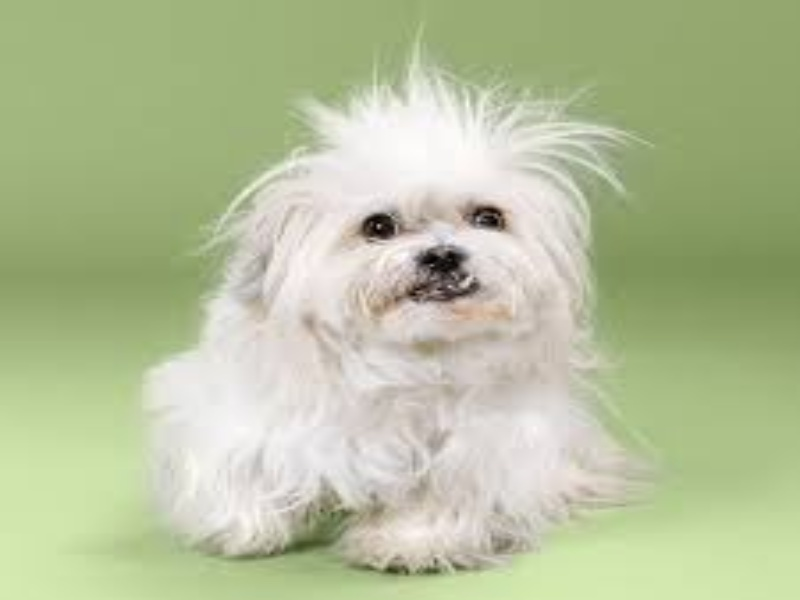dog: (136, 59, 662, 583)
